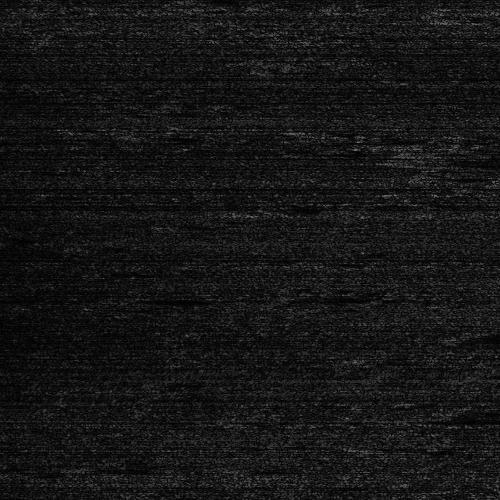object: (393, 144, 500, 157), (382, 159, 465, 168)
shadow: (424, 159, 500, 168), (455, 144, 500, 157)
